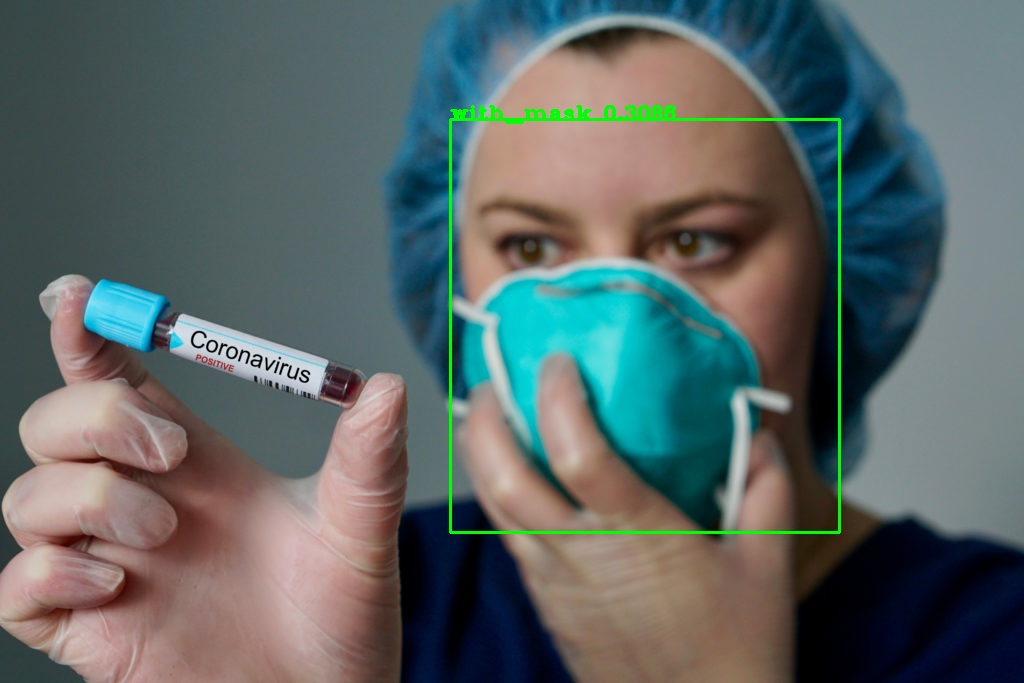with_mask: (434, 21, 877, 550)
